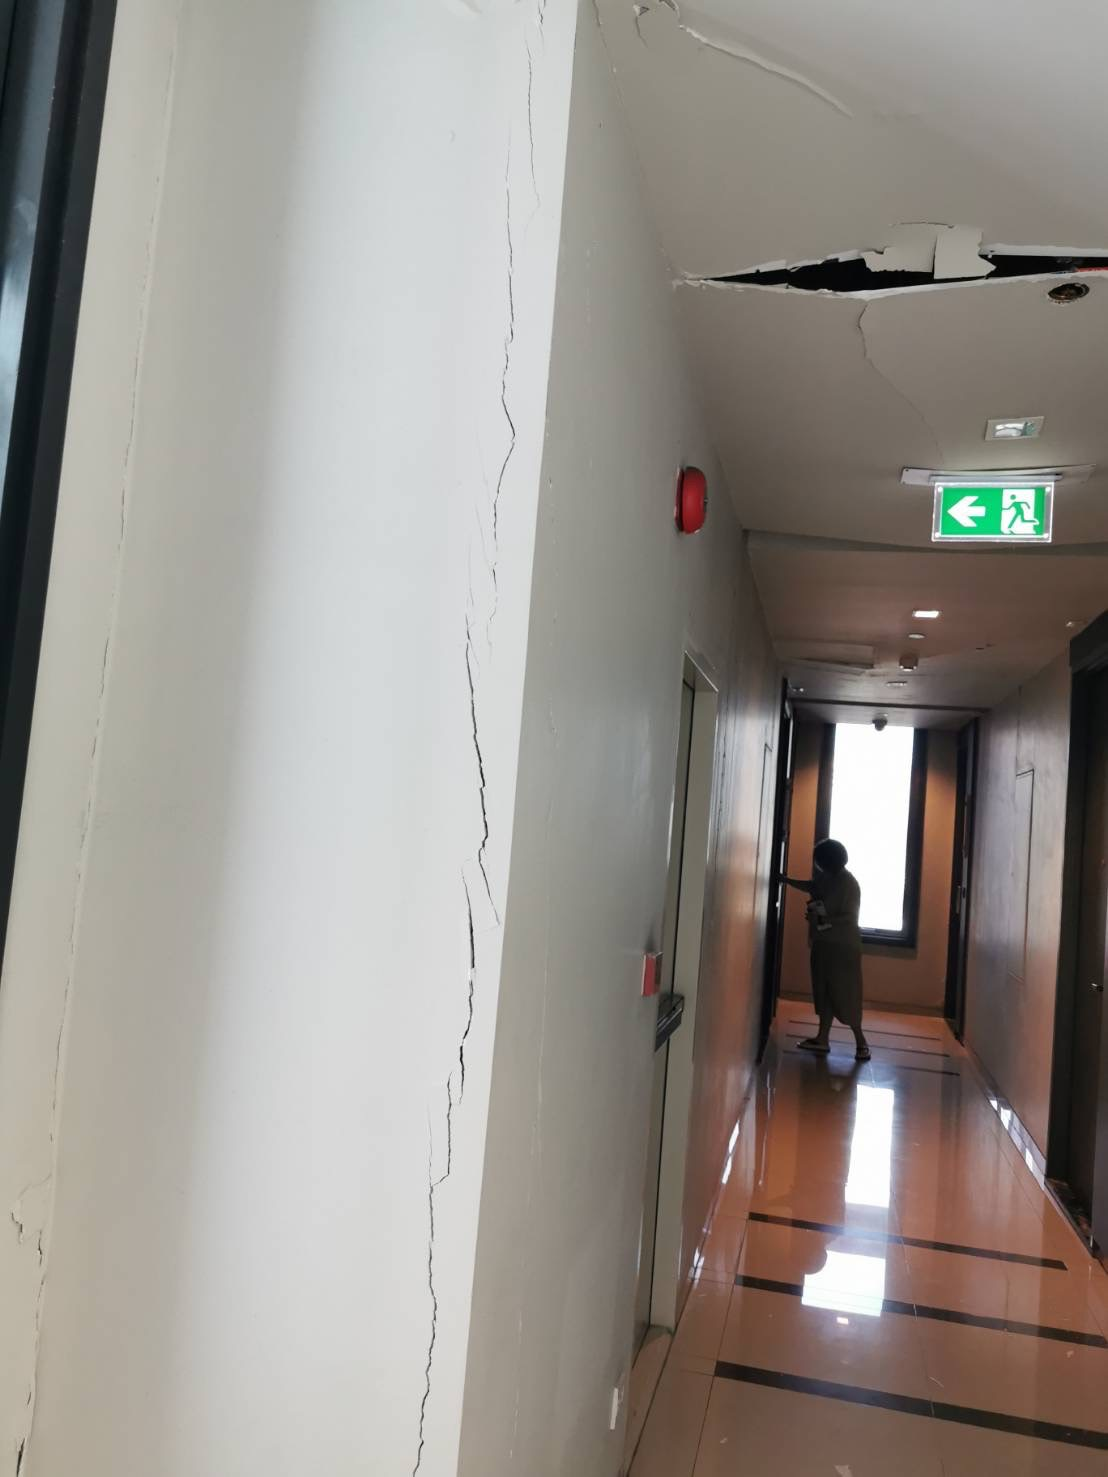Medium: (371, 687, 506, 1405)
